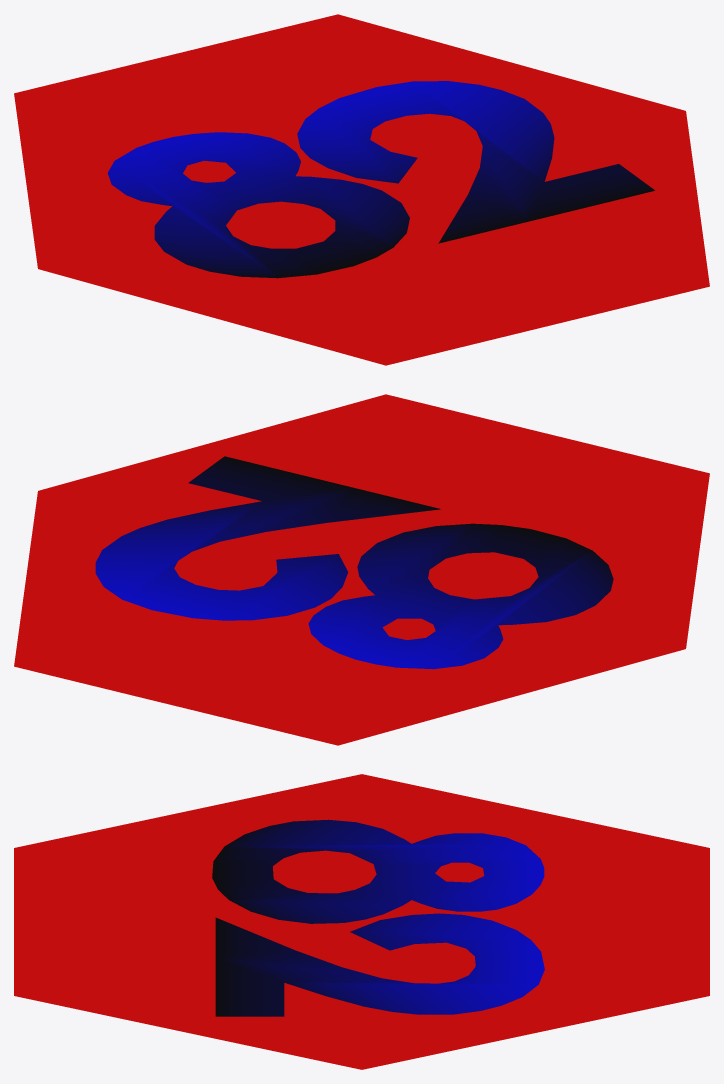
The model's file is SM_Number_82.fbx.
3 views of the same model, one above another, from view 1: azimuth 30°, elevation 25°; view 2: azimuth 150°, elevation 25°; view 3: azimuth 270°, elevation 25° (orthographic). The views are drawn at different scales.
Visible parts, largest first — view 1: FBX_OUT; view 2: FBX_OUT; view 3: FBX_OUT.
Boxes of the visible parts, x1,y1,x2,y2 form: FBX_OUT: (14,14,709,365); FBX_OUT: (14,394,709,745); FBX_OUT: (14,774,709,1069).
Bounding box in the file's own units: 50 × 0.2917 × 49.71.
